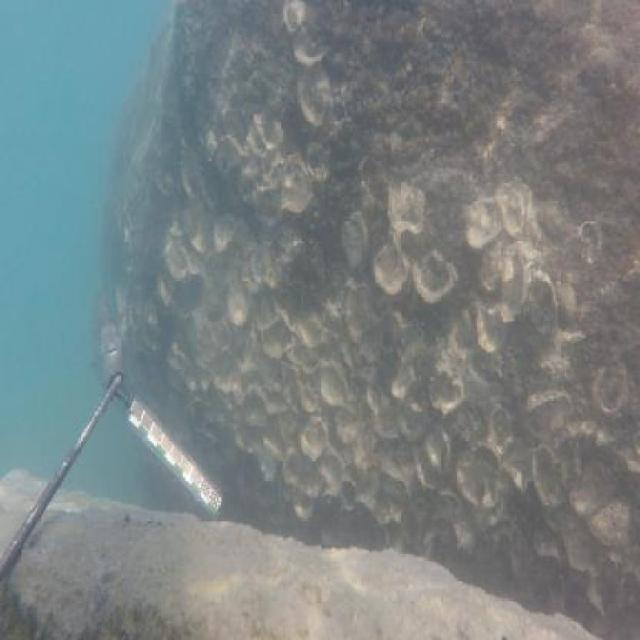acanthopagrus_palmaris: (88, 287, 126, 396)
